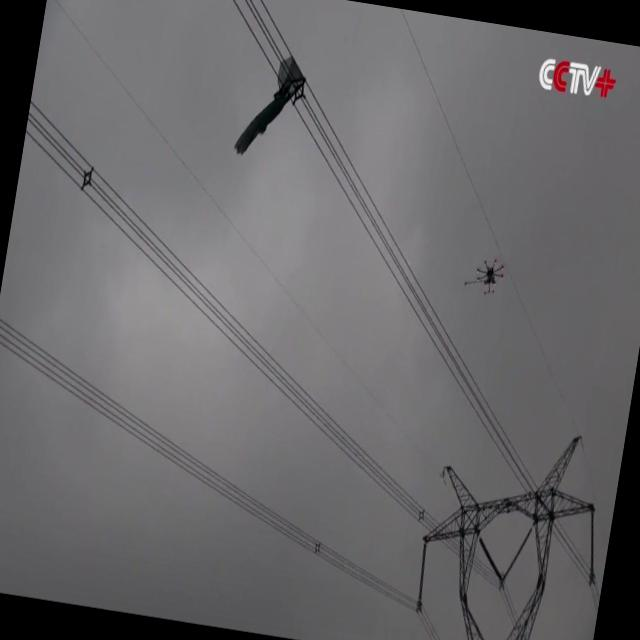drone: (471, 254, 507, 300)
